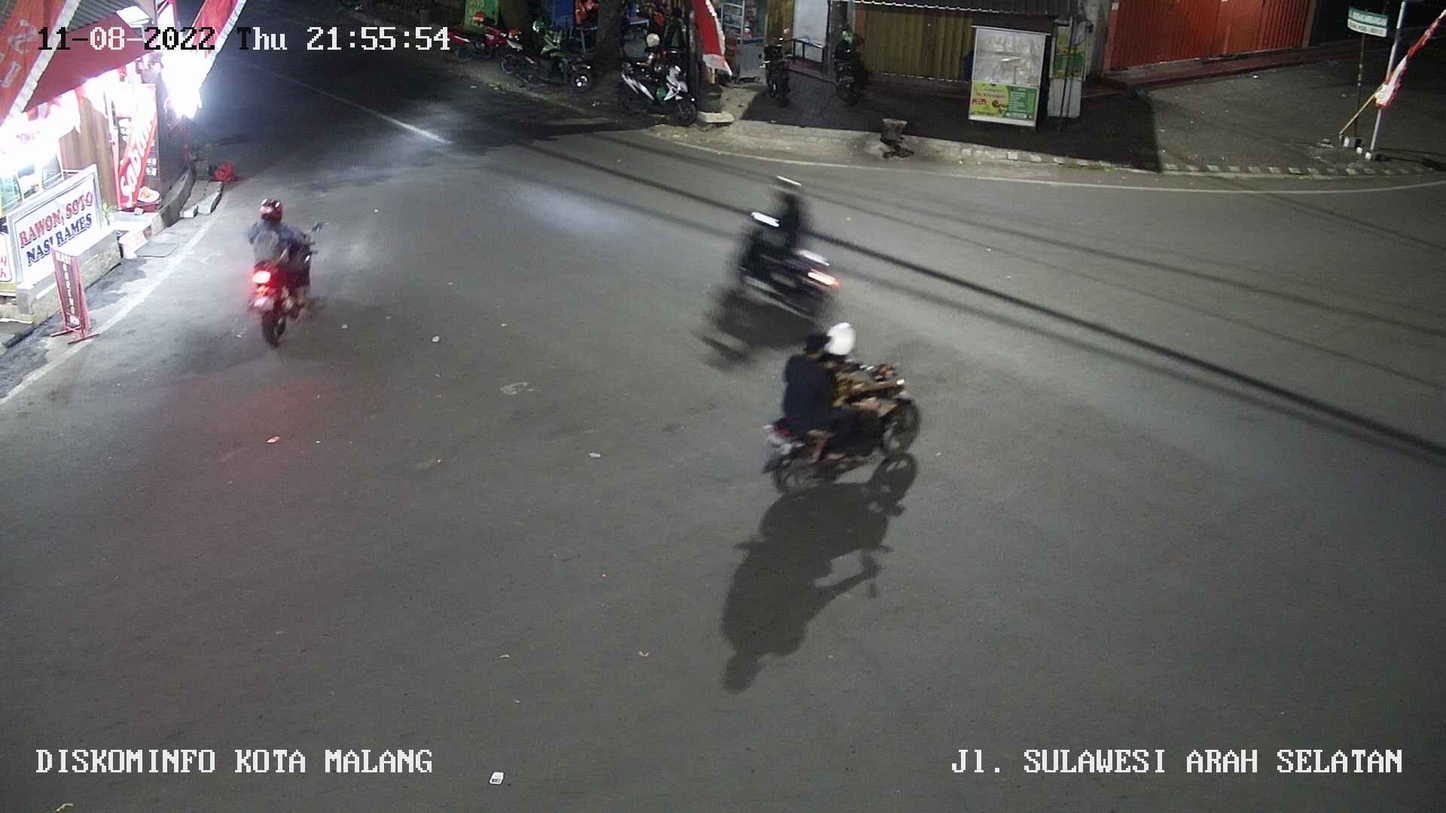with_helmet: (235, 186, 333, 355)
without_helmet: (755, 309, 932, 471)
